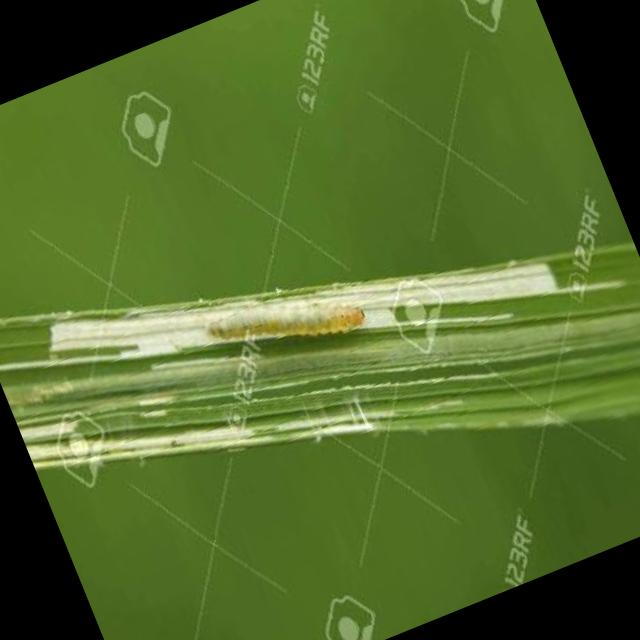leaf-folder: (182, 236, 385, 414)
